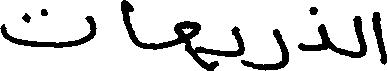X: (0, 4, 95, 52), (246, 24, 287, 70), (301, 2, 327, 55), (175, 16, 199, 69), (373, 7, 386, 69), (123, 0, 136, 50), (231, 21, 244, 70), (354, 11, 365, 62)
